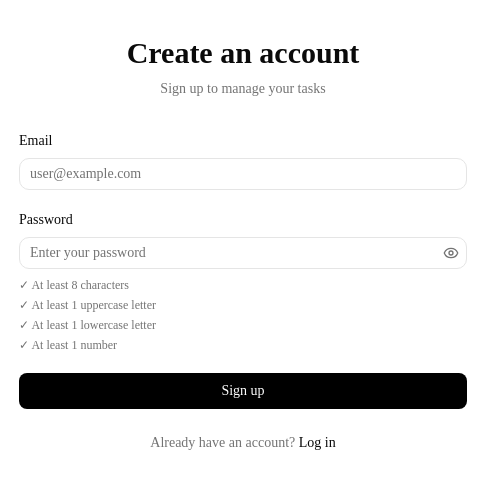
SignupForm › shows validation errors for empty fields
Click the button "Sign up": {"x": 243, "y": 391} [19,373,467,409]
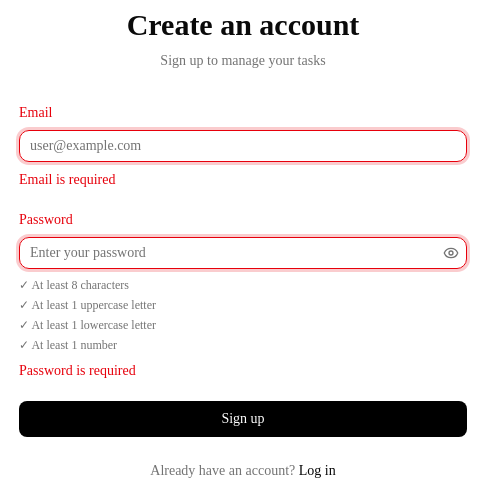
Result: the text "Email is required" is shown at [19,172,115,187]
Result: the text "Password is required" is shown at [19,363,136,378]
